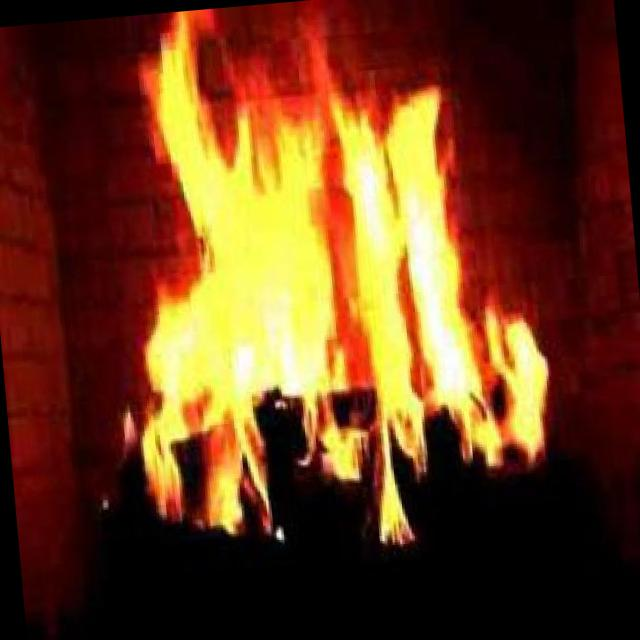Fire: (70, 0, 575, 586)
